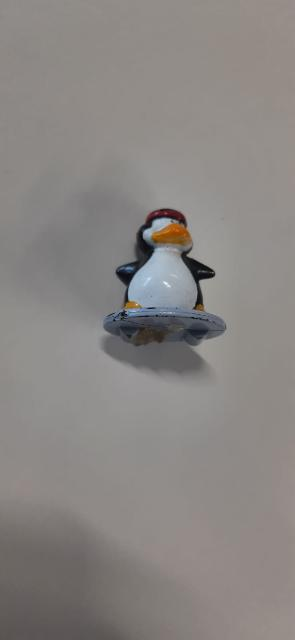Penguin: (108, 204, 221, 346)
